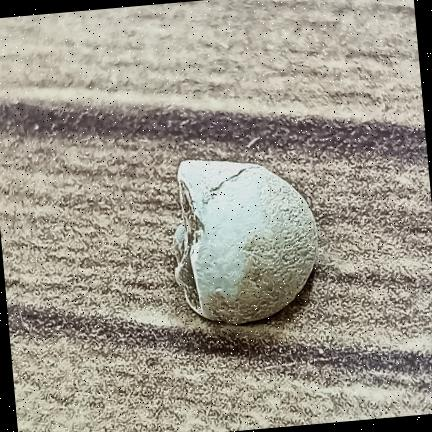cut: (174, 160, 317, 323)
